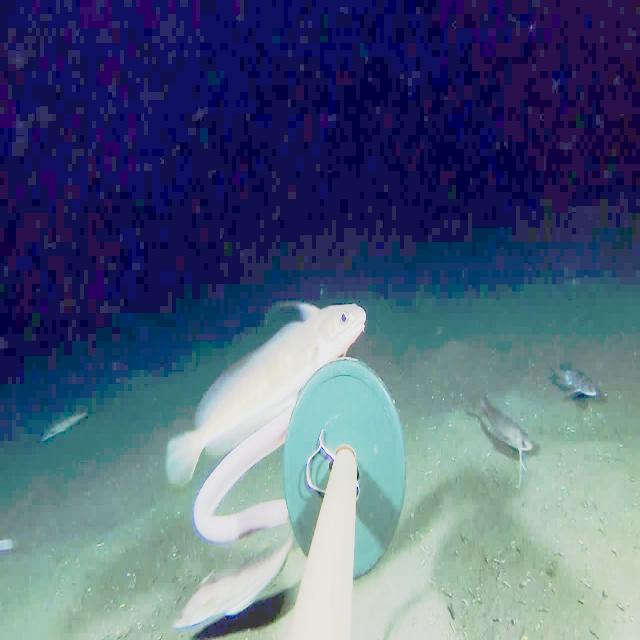eel: (178, 390, 304, 550)
fish: (151, 263, 381, 518), (159, 527, 301, 639), (466, 390, 546, 472), (548, 358, 608, 407), (33, 403, 96, 449)
pole: (282, 362, 409, 577)
